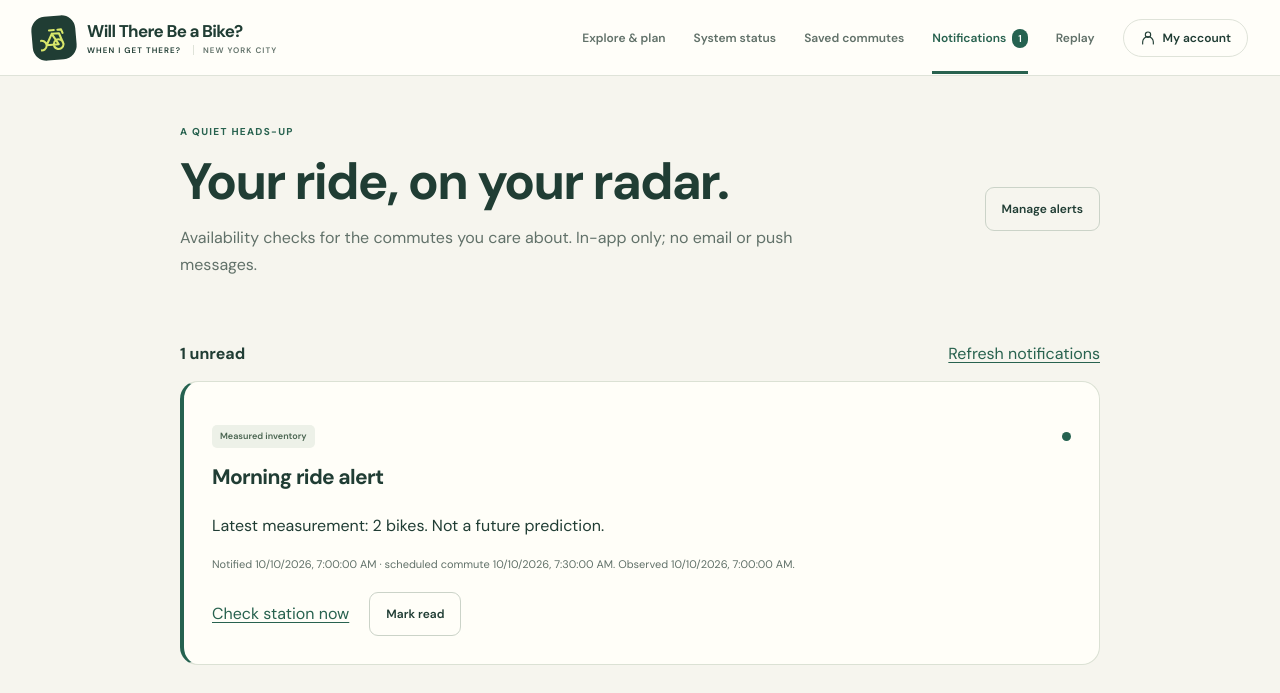
Test: persists read and unread state and never treats notifications as guarantees
Click the button "Mark read" at (415, 614), box 369,592 -> 461,636
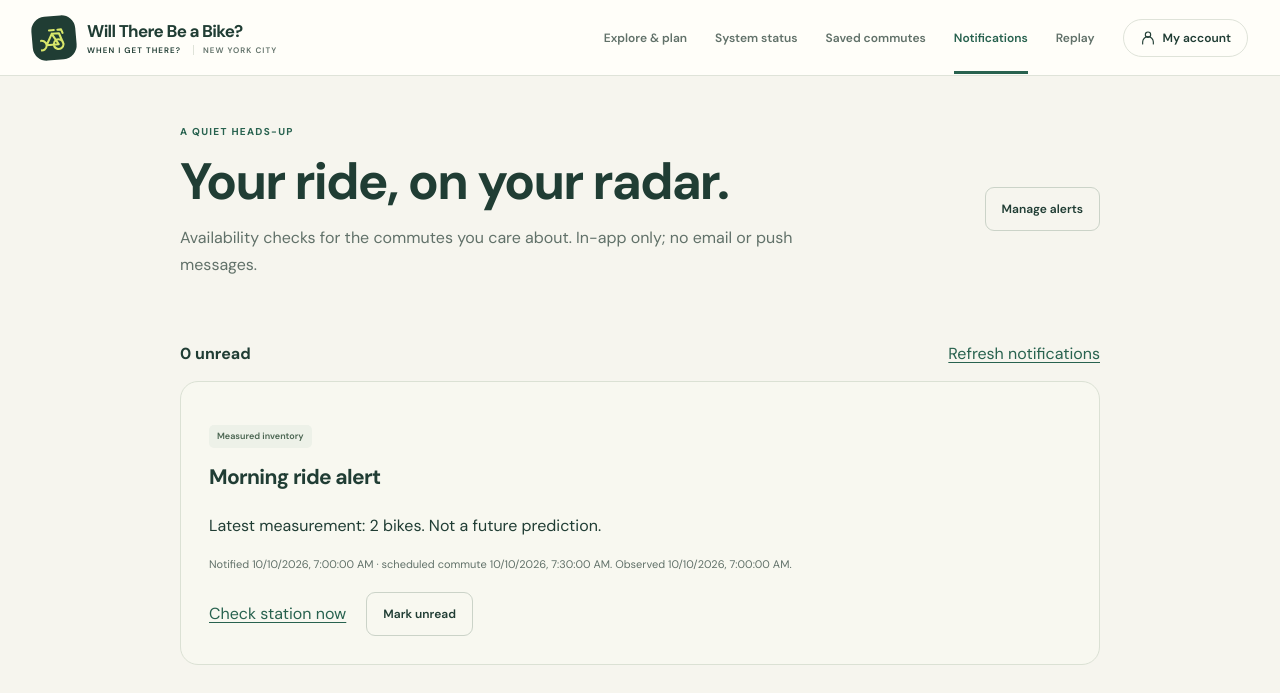
Click the button "Mark unread" at (420, 614), box 366,592 -> 473,636
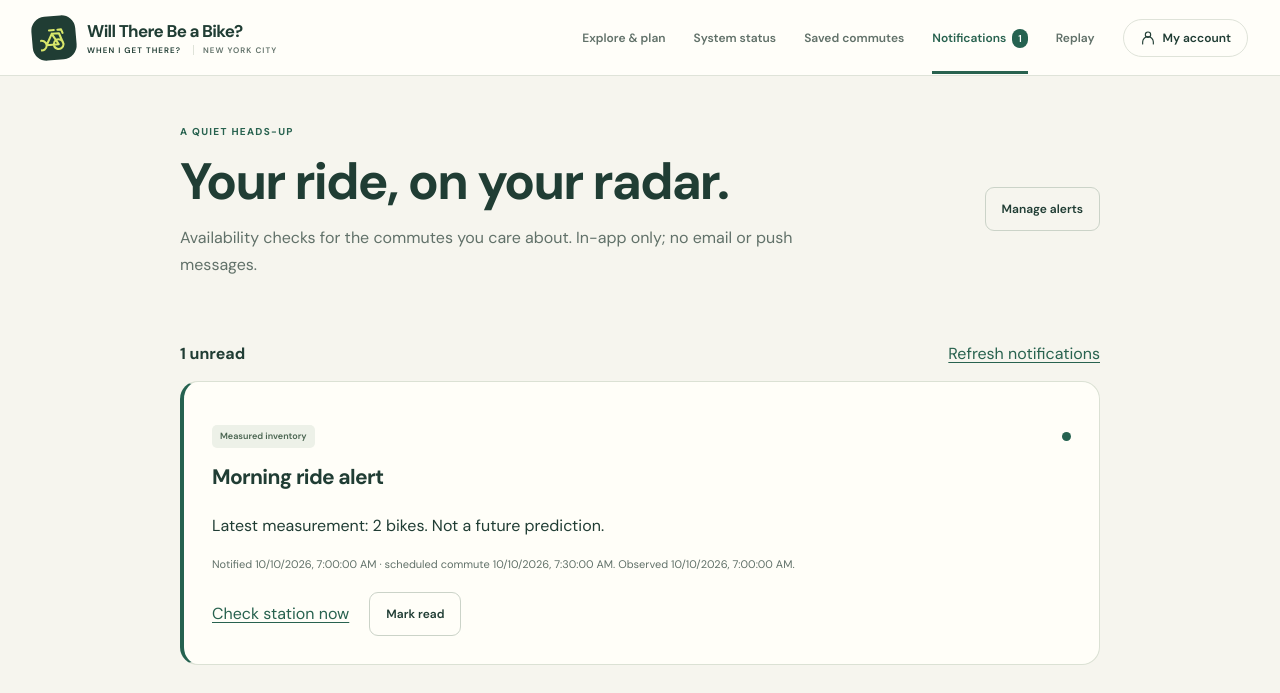
Now the button "Mark read" is shown, box 369,592 -> 461,636
